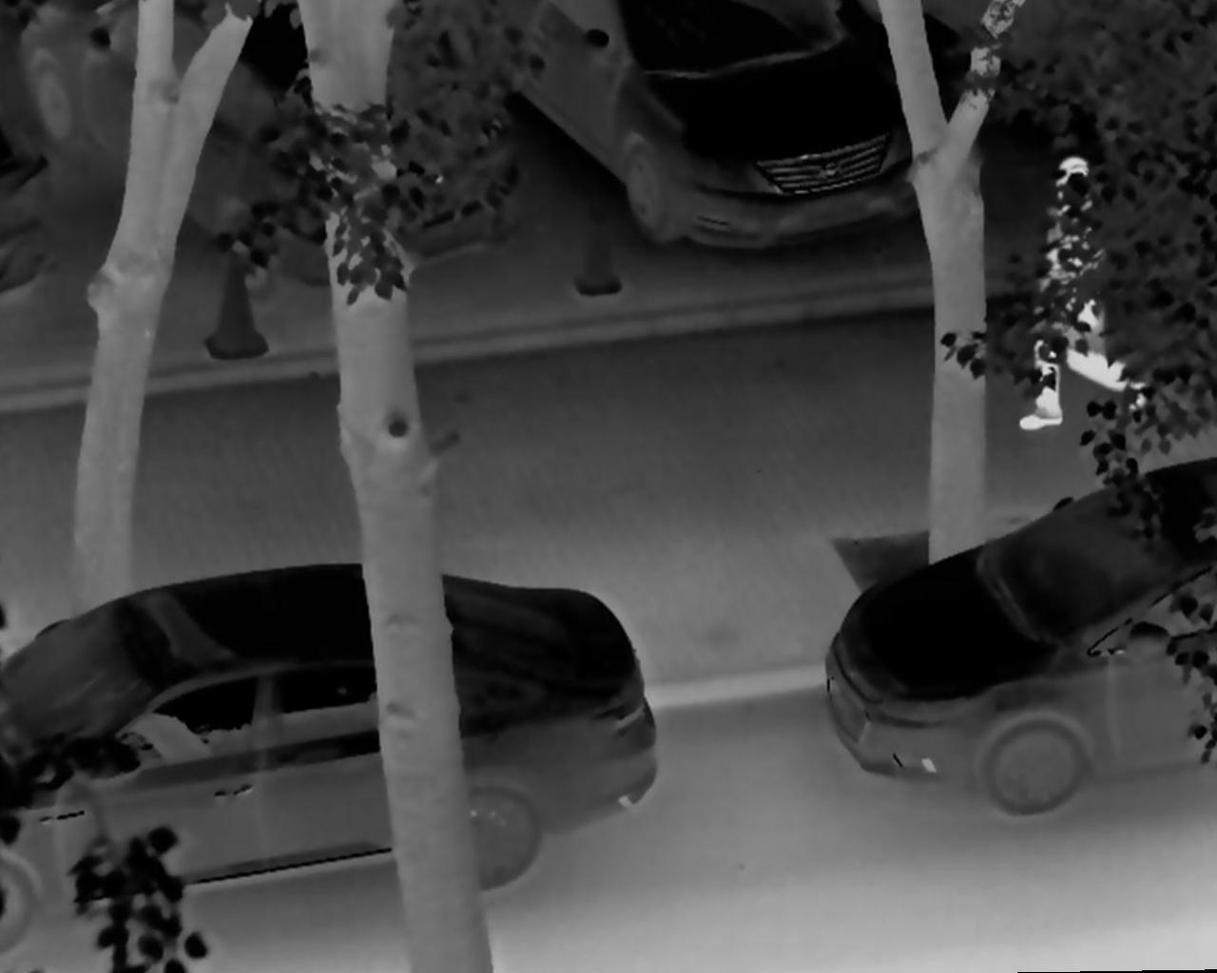person: (1016, 154, 1154, 429)
